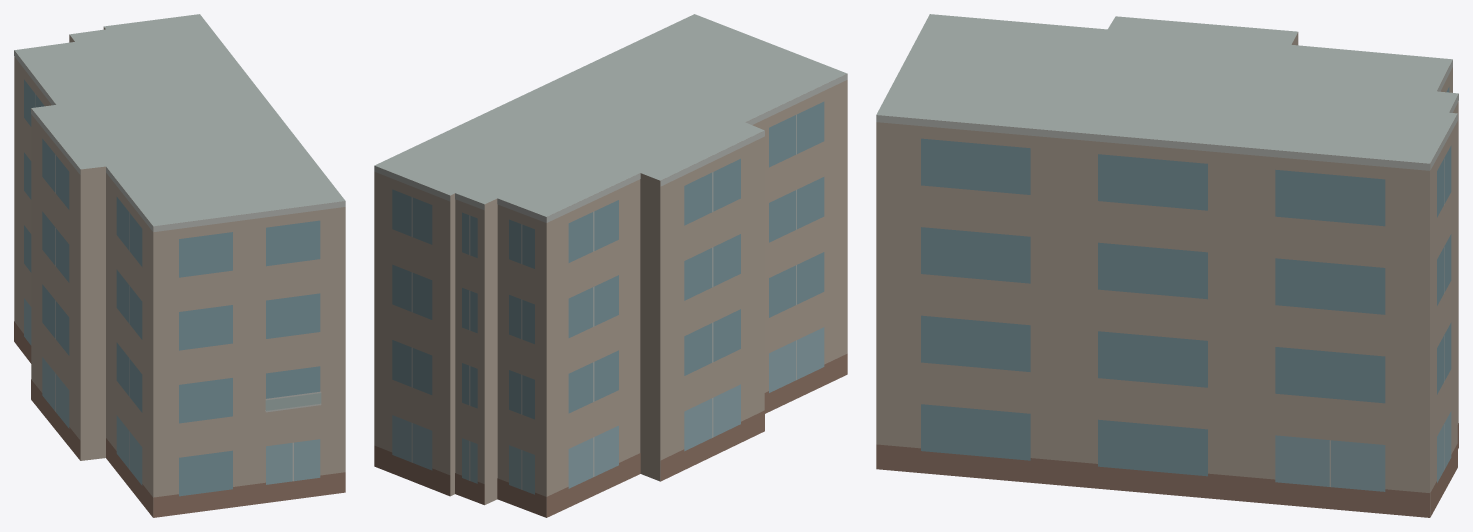
The model's file is survey-upis-32702297.glb.
The picture shows the model from 3 angles, left to right: view 1: azimuth 30°, elevation 25°; view 2: azimuth 150°, elevation 25°; view 3: azimuth 270°, elevation 25°; orthographic projection. The views are drawn at different scales.
Visible parts, largest first — view 1: survey-upis-32702297.tmp; view 2: survey-upis-32702297.tmp; view 3: survey-upis-32702297.tmp.
Part boxes in pixels (x1=…): survey-upis-32702297.tmp: x1=14, y1=14, x2=345, y2=517; survey-upis-32702297.tmp: x1=374, y1=14, x2=847, y2=517; survey-upis-32702297.tmp: x1=876, y1=14, x2=1458, y2=517.
Bounding box in the file's own units: 10.98 × 12.1 × 18.05.
